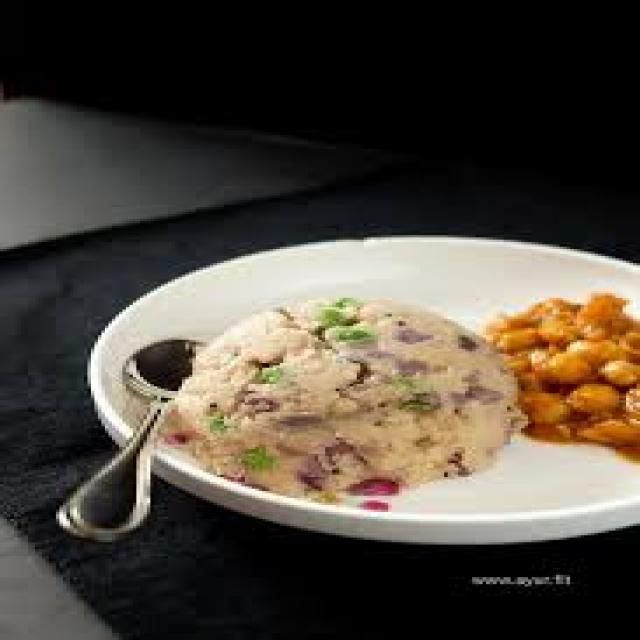UPMA: (176, 303, 524, 501)
